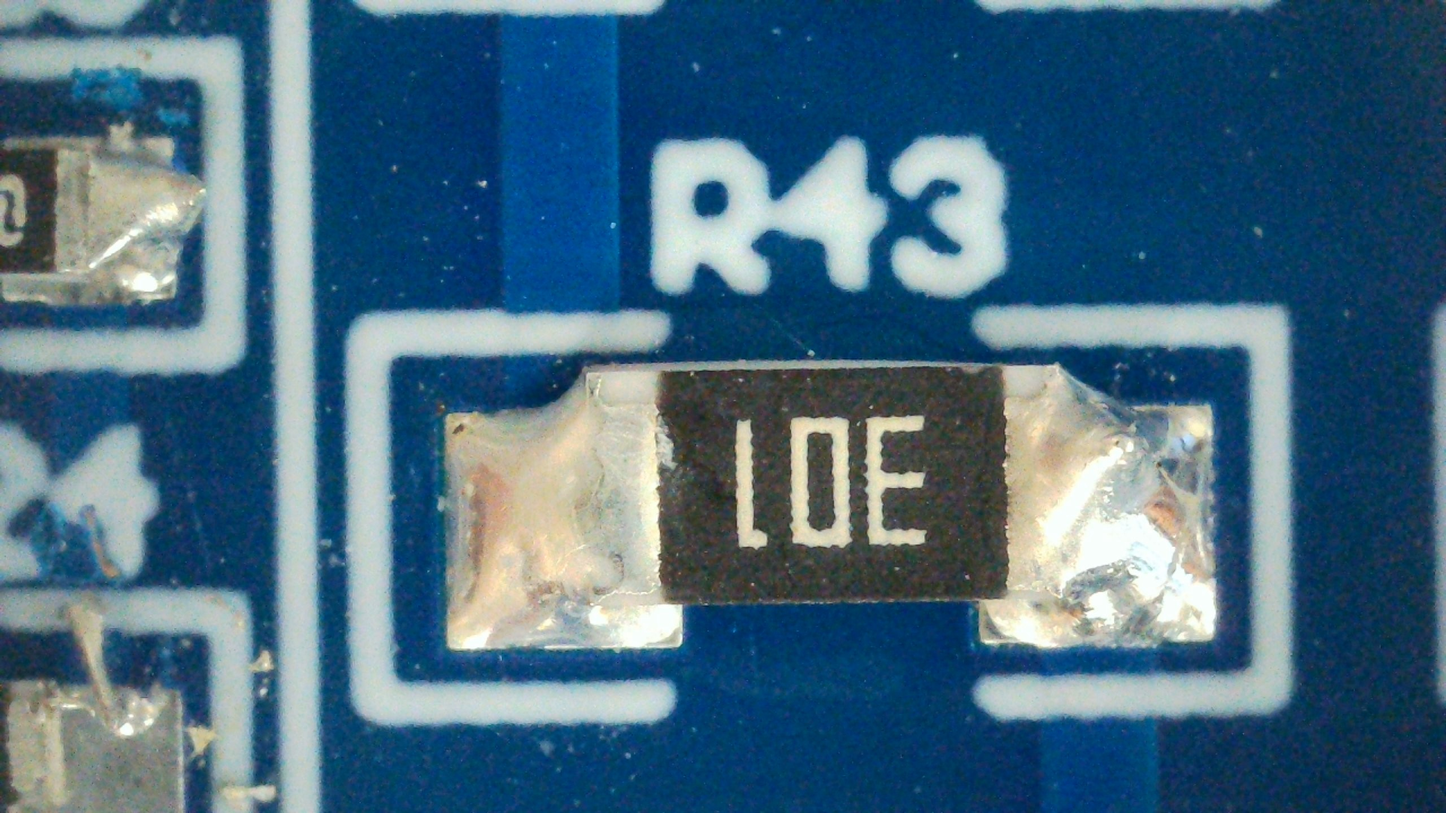NG: (445, 364, 1217, 647)
